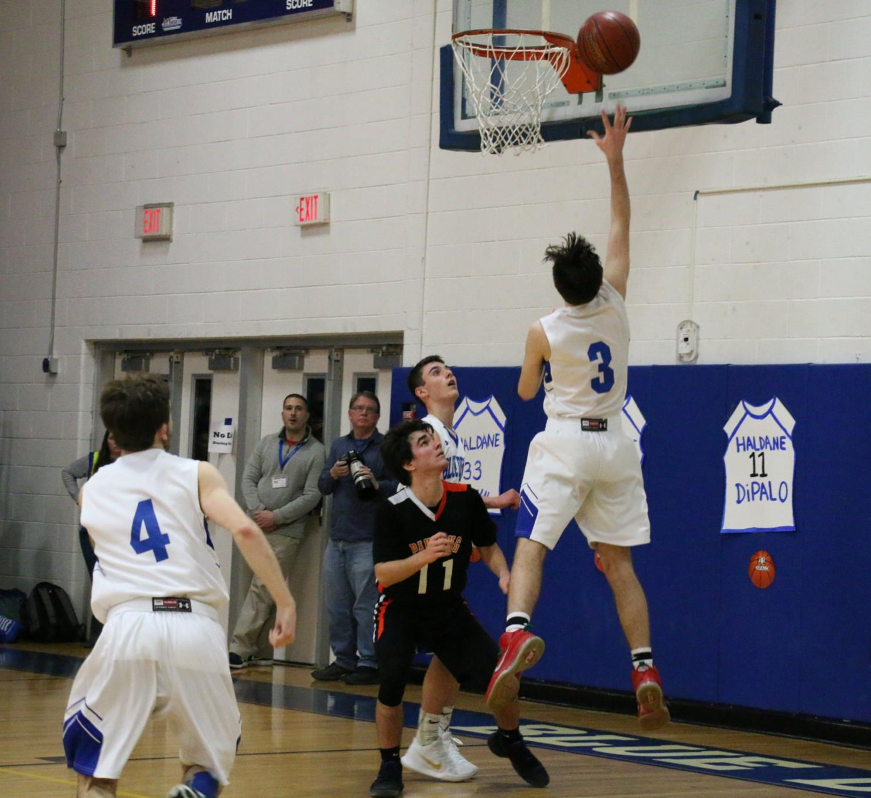ball: (577, 11, 642, 75)
basket: (65, 380, 296, 798), (375, 424, 520, 797), (408, 358, 497, 782), (227, 398, 328, 666), (327, 390, 381, 685), (451, 28, 571, 156)
player: (482, 108, 677, 725)
